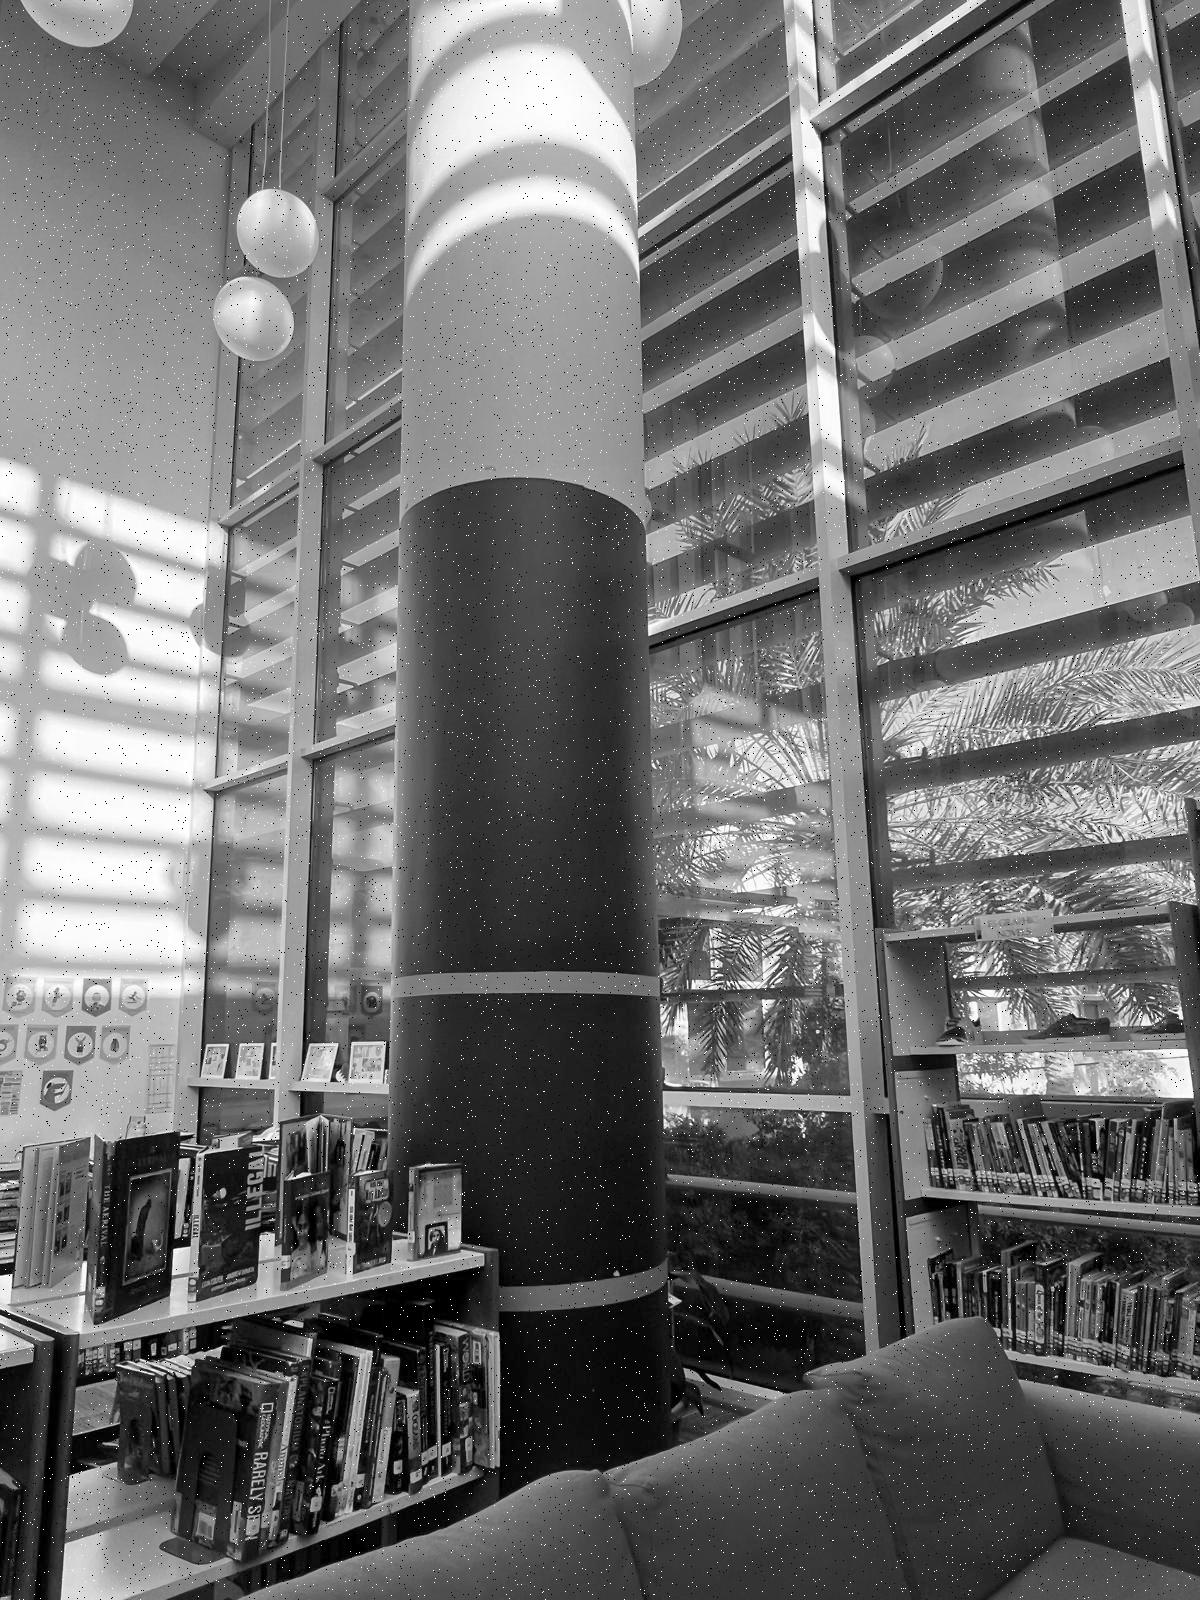Couch: (268, 1319, 1199, 1599)
Pillar: (392, 0, 667, 1480)
